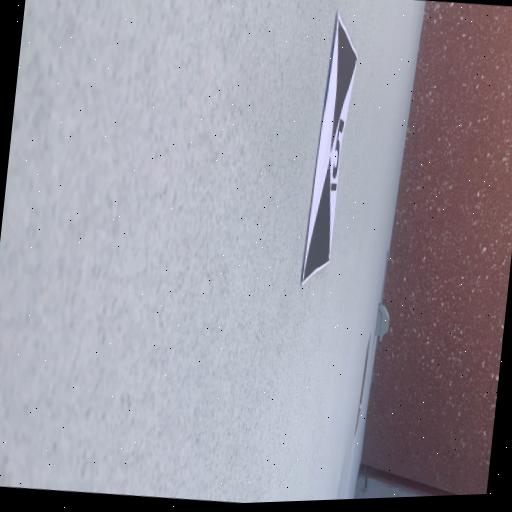target5: (301, 14, 360, 285)
